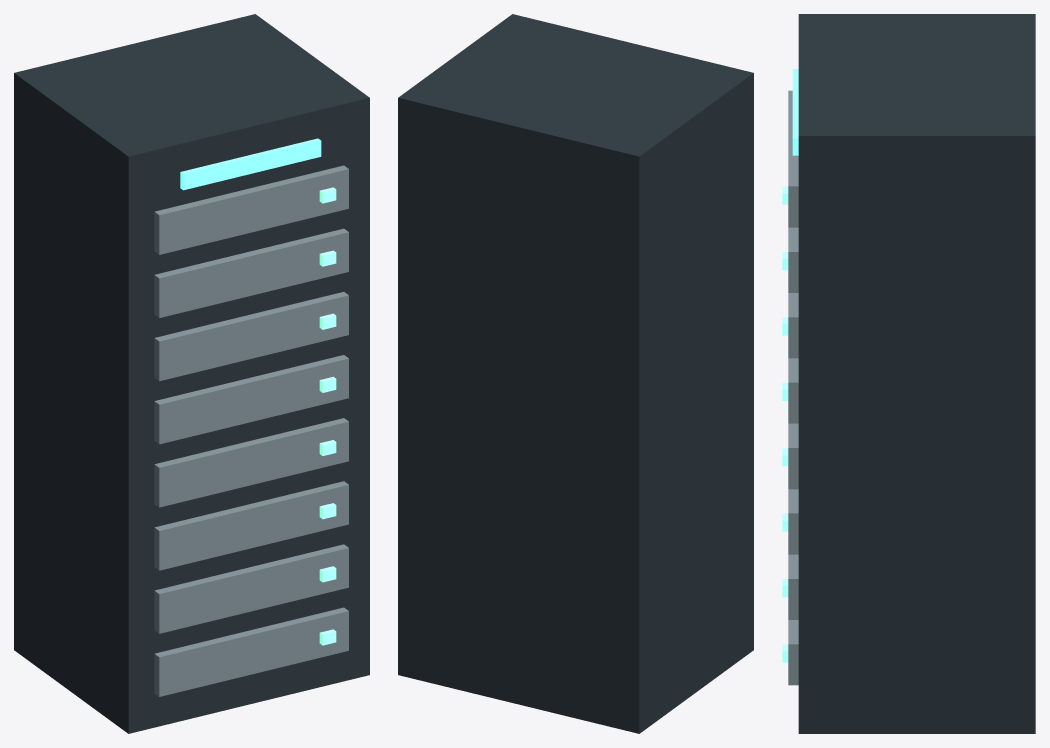
The model's file is server-rack.lod1.glb.
The picture shows the model from 3 angles, left to right: view 1: azimuth 30°, elevation 25°; view 2: azimuth 150°, elevation 25°; view 3: azimuth 270°, elevation 25°; orthographic projection. The views are drawn at different scales.
Parts seen in each view (by area): view 1: structure; view 2: structure; view 3: structure.
Part boxes in pixels (bbox=[...]): structure: bbox=[14, 14, 369, 733]; structure: bbox=[398, 14, 753, 733]; structure: bbox=[782, 14, 1035, 733].
Size of the model in its own units: 1.4 by 3.2 by 1.23.
